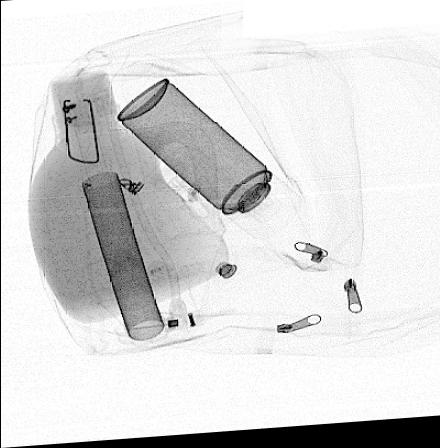Sprayer: (115, 79, 302, 247)
